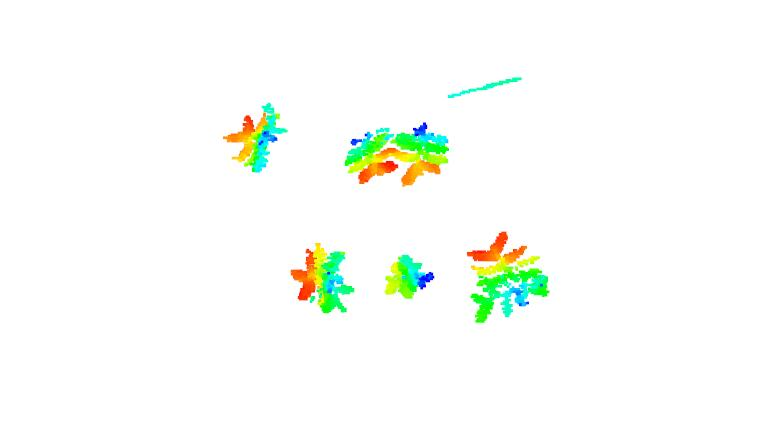chickpea: (464, 231, 552, 324), (288, 241, 355, 318), (220, 101, 288, 175), (394, 122, 452, 187), (343, 123, 398, 188), (383, 253, 435, 301)
